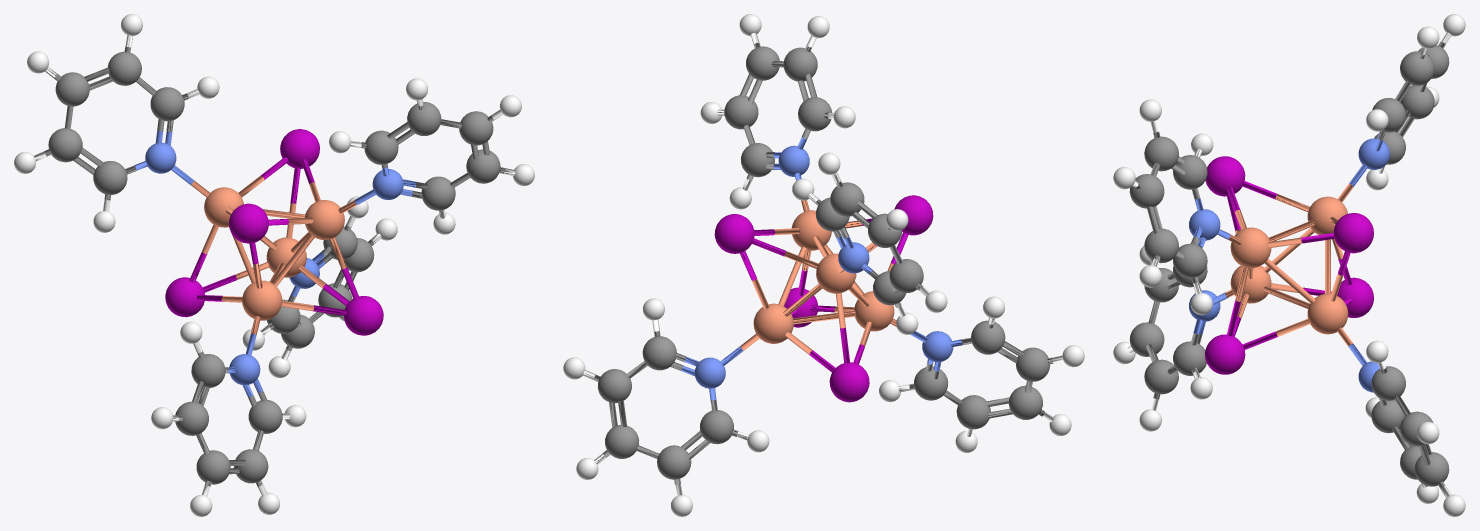
3 renders of one model, left to right at view 1: azimuth 30°, elevation 25°; view 2: azimuth 150°, elevation 25°; view 3: azimuth 270°, elevation 25°, orthographic.
Visible parts, largest first — view 1: 01_Cu4I4py4.007; view 2: 01_Cu4I4py4.007; view 3: 01_Cu4I4py4.007.
Part boxes in pixels (x1,y1,x2,y2): 01_Cu4I4py4.007: (14,14,534,516); 01_Cu4I4py4.007: (563,14,1084,516); 01_Cu4I4py4.007: (1113,14,1465,516).
Bounding box in the file's own units: 2.73 × 2.73 × 2.16.
